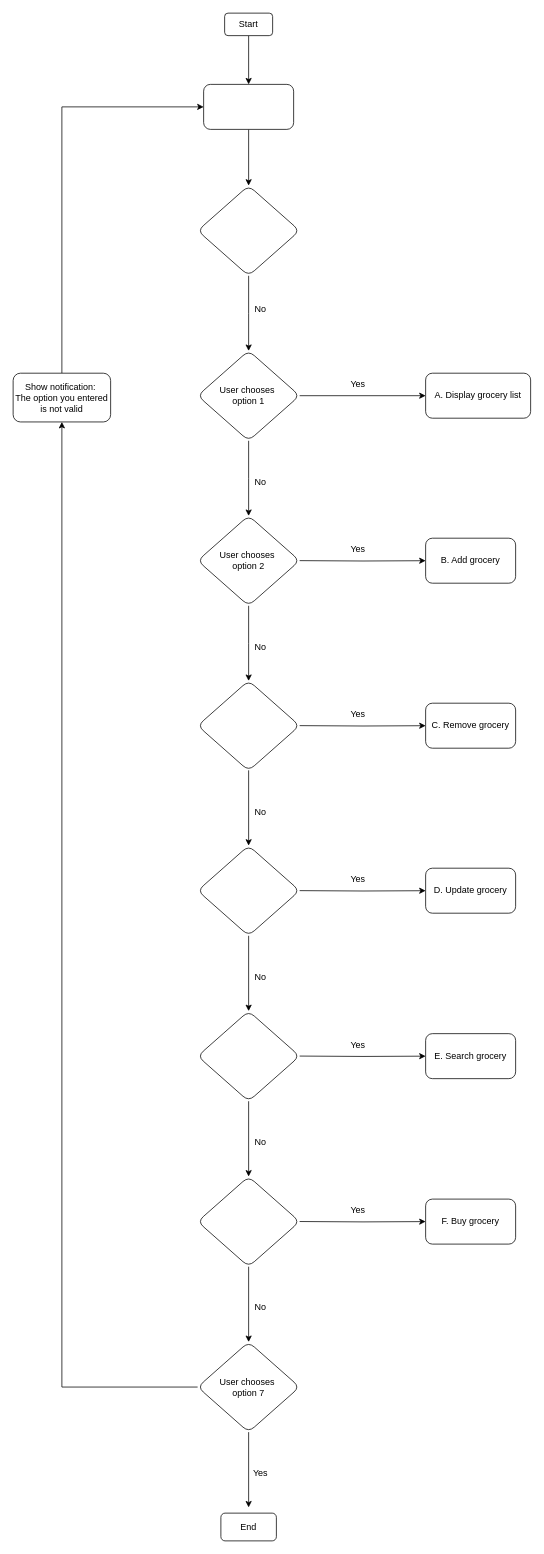
Some shapes in this 544 by 1554 pixel diagram are drawn without their labels. Here are the shapes that lost their labels. From the top down, the box of each, then its label:
(203, 84, 294, 129): Display Program Menu Options
(197, 185, 300, 276): User chooses ineligible option
(197, 680, 300, 771): User chooses option 3
(197, 845, 300, 936): User chooses option 4
(197, 1010, 300, 1101): User chooses option 5
(197, 1176, 300, 1267): User chooses option 6
